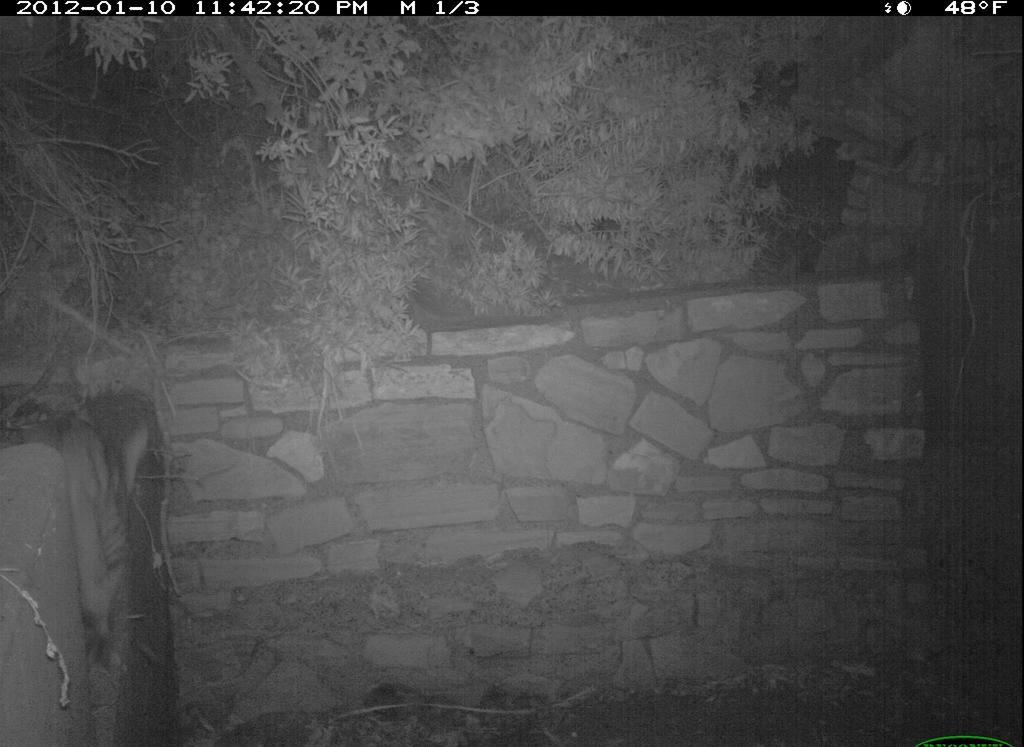bobcat: (5, 396, 162, 660)
